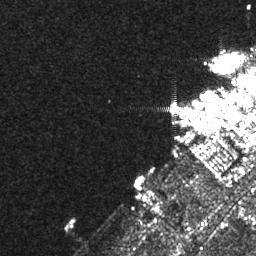ship: (132, 172, 144, 191), (63, 217, 76, 231)
